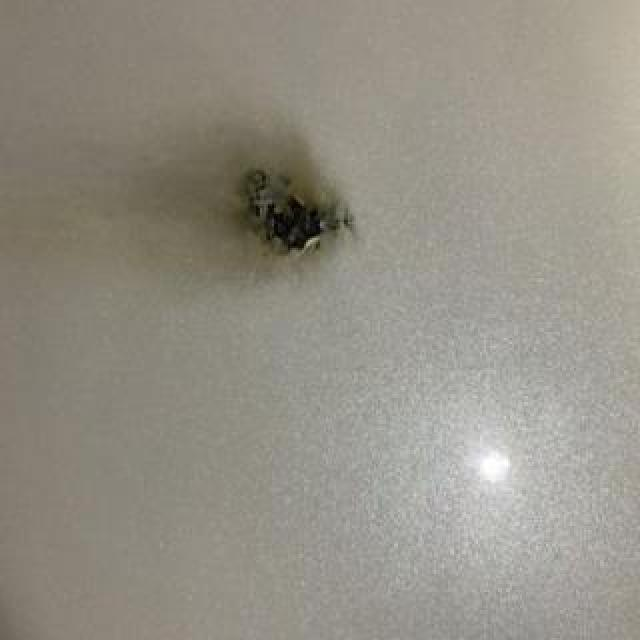crack: (241, 169, 355, 253)
